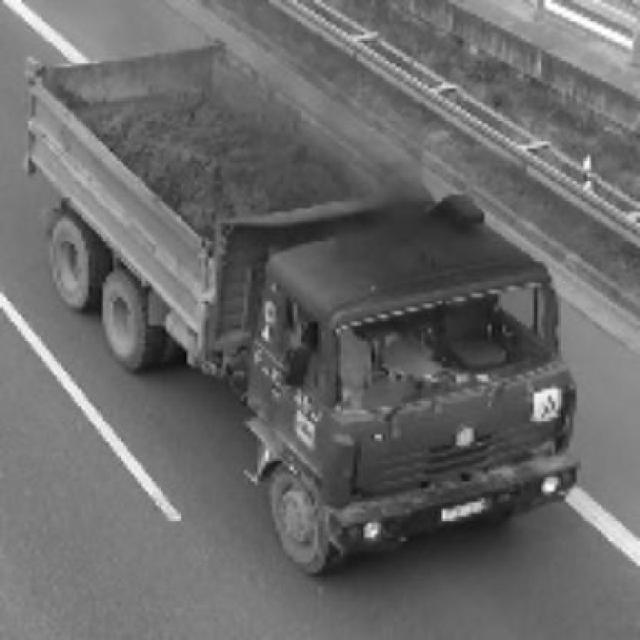truck: (22, 49, 580, 576)
